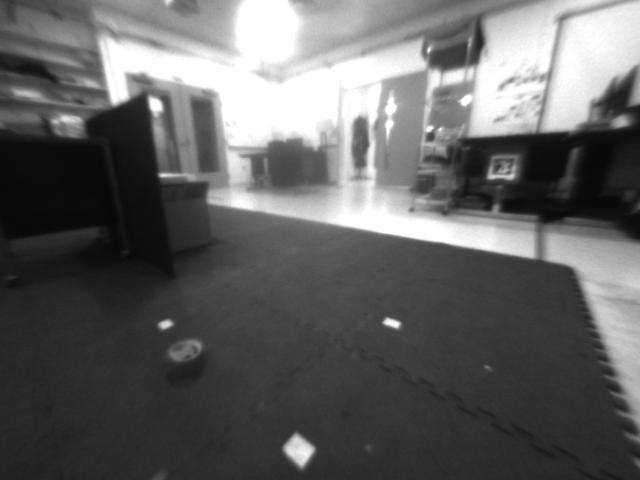dogtoy: (150, 337, 221, 375)
